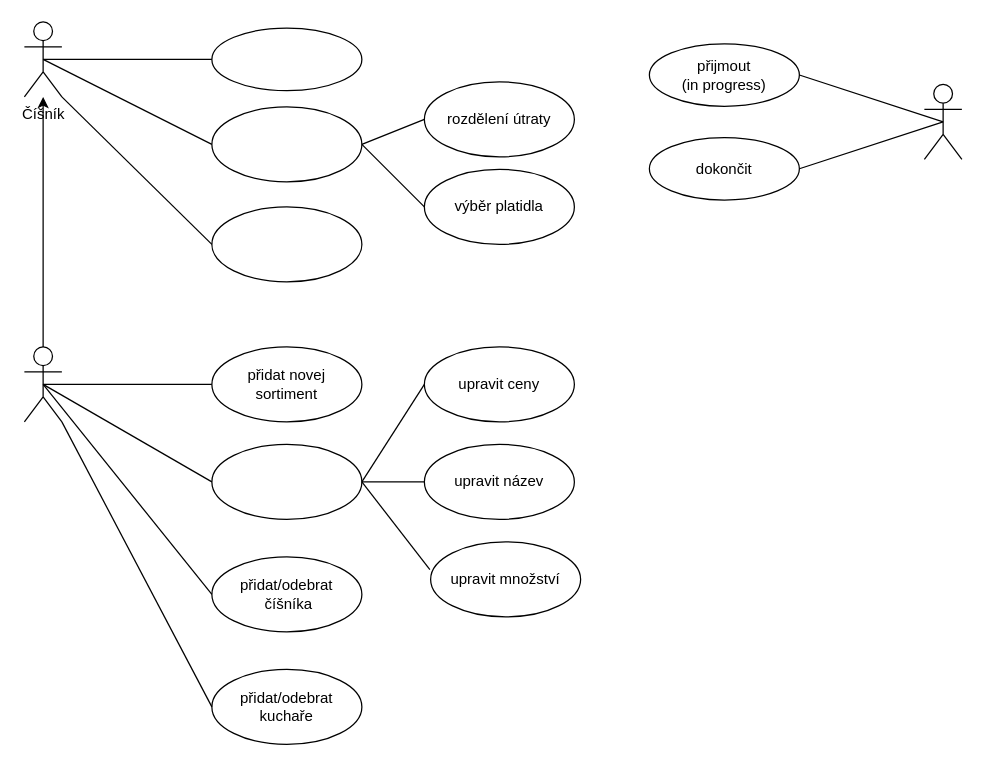
This 988x766 diagram has some shape labels left out. The centre of each missing label's shape, as x and y in pixels:
editovat denní menu: point (286, 244)
editovat sortiment: point (286, 481)
Kuchař: point (942, 121)
platební operace: point (286, 144)
zapsat objednávku: point (286, 59)
Šéf: point (42, 384)
